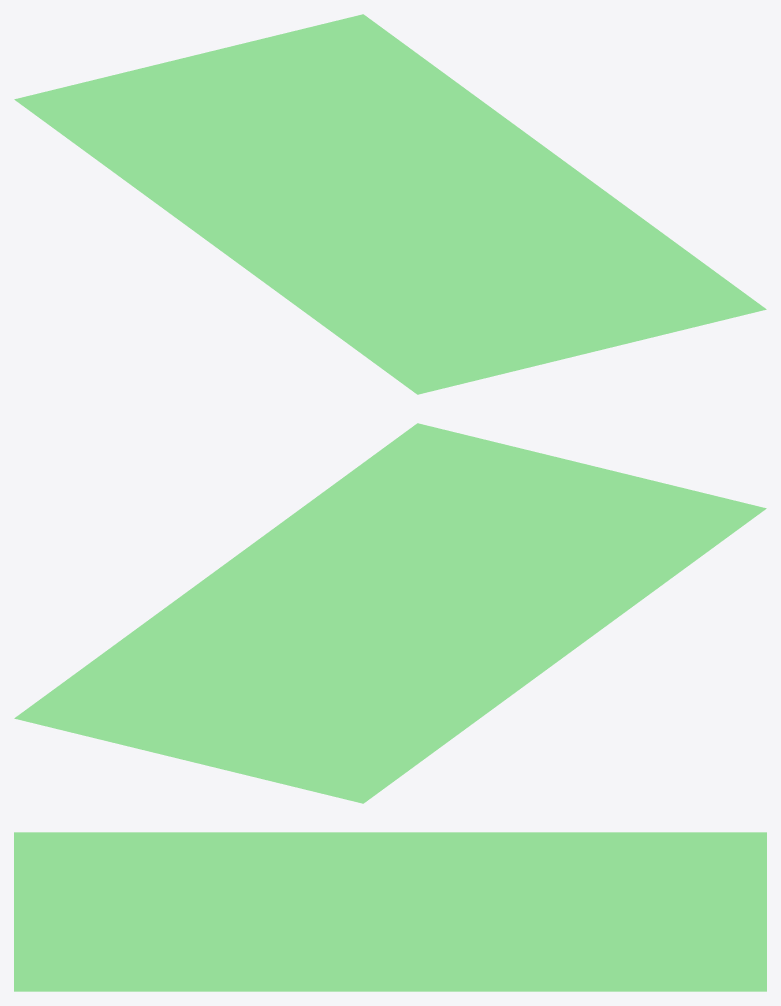
File: cloth_a.glb
The picture shows the model from 3 angles, top to bottom: view 1: azimuth 30°, elevation 25°; view 2: azimuth 150°, elevation 25°; view 3: azimuth 270°, elevation 25°; orthographic projection. The views are drawn at different scales.
Bounding box in the file's own units: 2 × 0 × 4.
